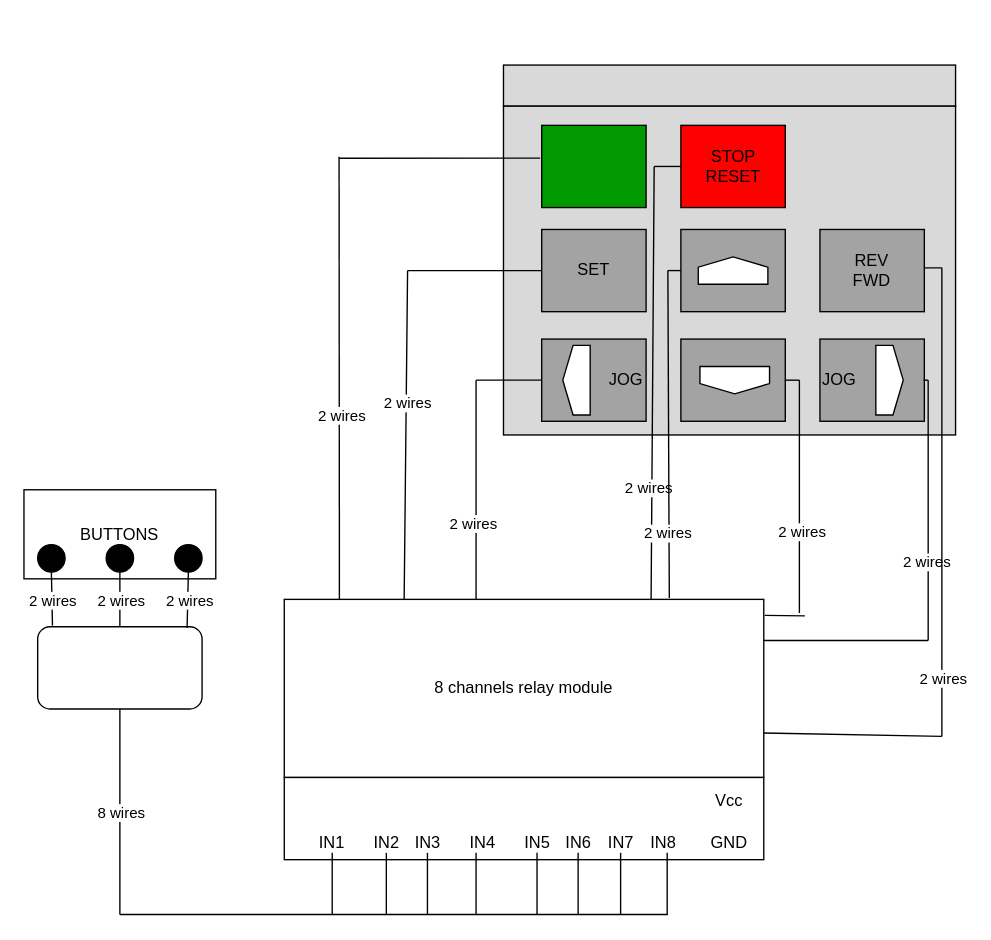
Image size: 991x940. Some labels were removed from this diagram. The centre of each missing label's shape, as x and y in pixels:
ARDUINO: the point at 119,667
RUN STOP: the point at 593,166
VFD keypad: the point at 729,85
